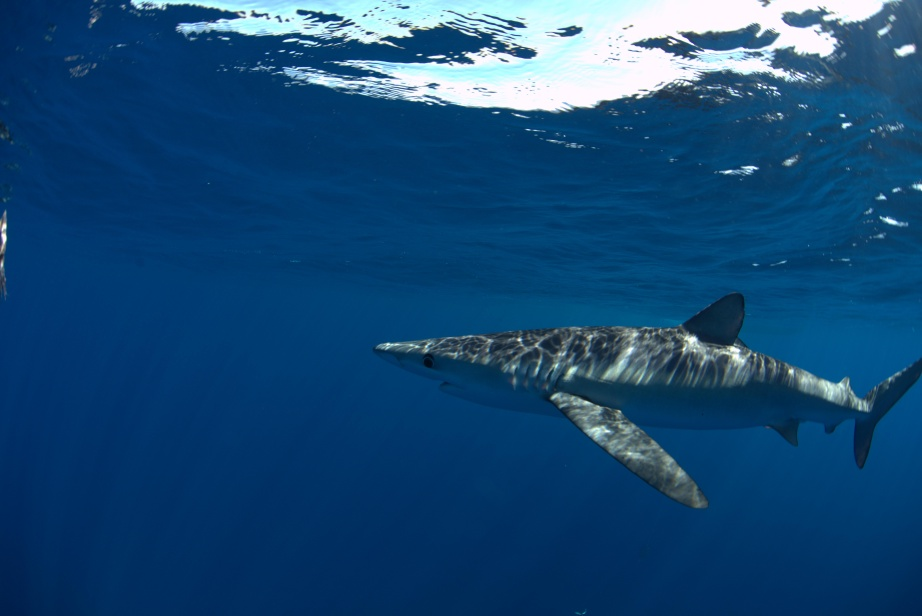Azul: (344, 253, 922, 527)
